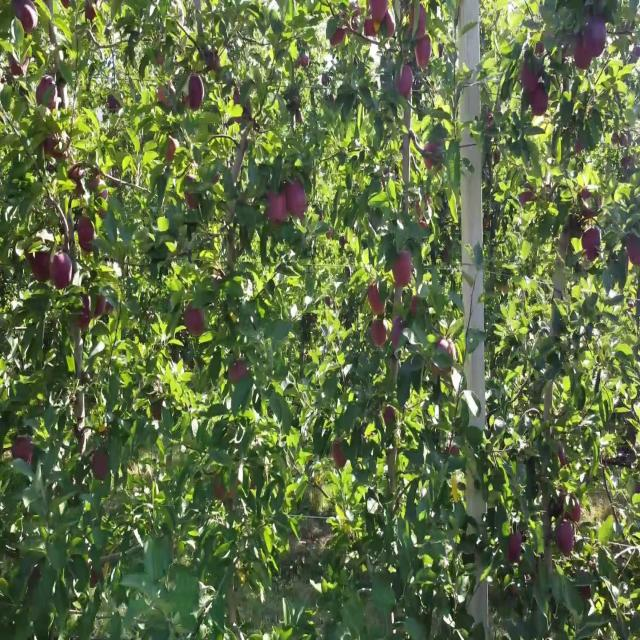apple: (392, 248, 413, 290), (36, 78, 58, 112), (52, 255, 72, 292), (556, 519, 576, 556), (184, 78, 204, 114), (32, 248, 52, 284), (588, 21, 608, 57), (92, 177, 109, 219), (288, 184, 308, 219), (268, 191, 288, 226), (436, 341, 455, 377), (184, 305, 205, 336), (216, 476, 238, 505), (92, 447, 109, 484), (520, 63, 540, 94), (12, 440, 35, 466), (396, 63, 412, 100), (16, 7, 36, 36), (576, 35, 592, 71), (584, 227, 600, 263), (416, 35, 432, 71), (80, 220, 96, 254), (532, 85, 548, 119), (76, 298, 92, 331), (368, 284, 385, 315), (96, 291, 114, 320), (412, 7, 428, 39), (68, 163, 84, 194), (372, 319, 388, 348), (508, 533, 524, 562), (584, 191, 600, 220), (436, 341, 455, 364), (332, 440, 347, 469), (44, 135, 60, 160), (628, 234, 640, 267), (232, 85, 246, 112), (232, 362, 248, 384), (392, 319, 404, 348), (424, 142, 436, 171), (372, 0, 388, 21), (332, 28, 347, 50), (12, 56, 26, 78), (568, 504, 581, 526), (160, 85, 173, 107), (384, 14, 396, 36), (384, 405, 396, 427), (232, 92, 245, 112), (364, 21, 377, 39), (520, 191, 535, 206), (336, 28, 347, 46), (168, 142, 176, 164), (560, 447, 568, 469), (152, 405, 163, 420), (188, 191, 196, 210), (412, 298, 420, 316), (88, 7, 97, 21), (300, 56, 309, 68), (448, 447, 460, 455), (584, 590, 592, 601)
